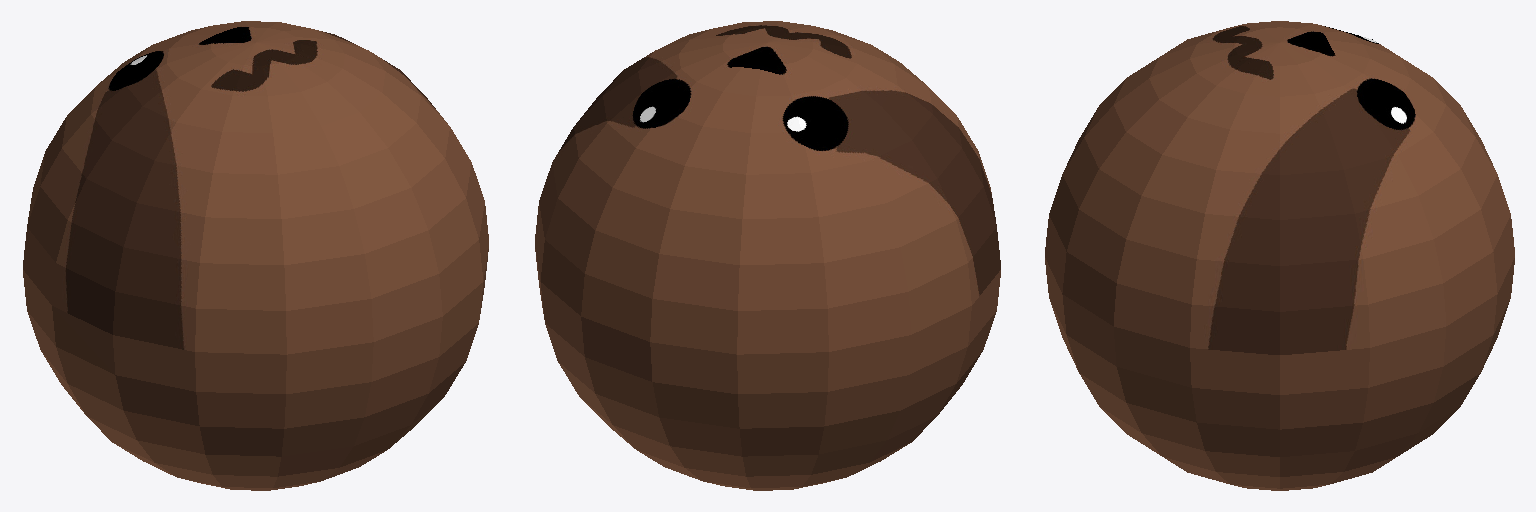
3 views of the same model, side by side, from view 1: azimuth 30°, elevation 25°; view 2: azimuth 150°, elevation 25°; view 3: azimuth 270°, elevation 25° (orthographic).
Visible parts, largest first — view 1: player_Sphere; view 2: player_Sphere; view 3: player_Sphere.
Boxes of the visible parts, <box> form: player_Sphere: <box>23,21,488,490</box>; player_Sphere: <box>535,21,1000,490</box>; player_Sphere: <box>1045,21,1514,490</box>.
Size of the model in its own units: 0.887 by 0.887 by 0.887.
Materials: 1 (1 with a texture image).